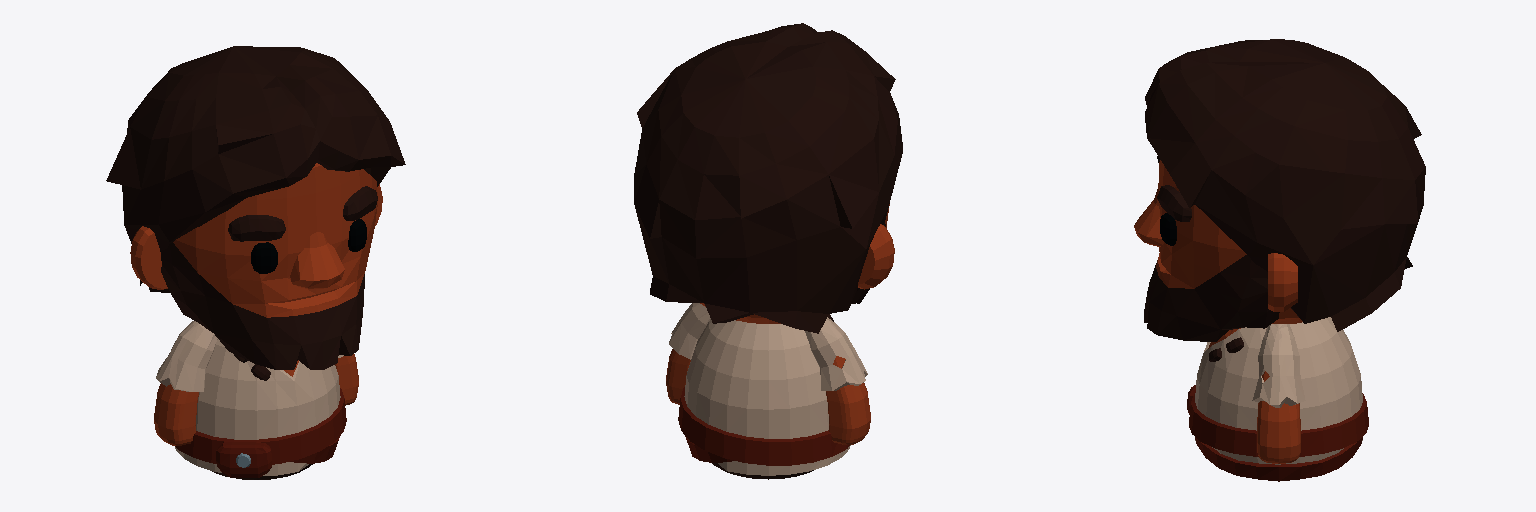
The model's file is character_villager_male1.obj.
3 views of the same model, side by side, from view 1: azimuth 30°, elevation 25°; view 2: azimuth 150°, elevation 25°; view 3: azimuth 270°, elevation 25° (orthographic).
Parts seen in each view (by area): view 1: character_villager_male1_head_Cube.824, character_villager_male1_body_Cube.825, character_villager_male1_armRight_Cube.826, character_villager_male1_armLeft_Cube.828; view 2: character_villager_male1_head_Cube.824, character_villager_male1_body_Cube.825, character_villager_male1_armRight_Cube.826, character_villager_male1_armLeft_Cube.828; view 3: character_villager_male1_head_Cube.824, character_villager_male1_body_Cube.825, character_villager_male1_armLeft_Cube.828.
Part boxes in pixels (bbox=[...]): character_villager_male1_head_Cube.824: bbox=[106, 46, 405, 369]; character_villager_male1_body_Cube.825: bbox=[175, 339, 346, 479]; character_villager_male1_armRight_Cube.826: bbox=[154, 321, 217, 445]; character_villager_male1_armLeft_Cube.828: bbox=[335, 354, 358, 405]; character_villager_male1_head_Cube.824: bbox=[634, 23, 902, 333]; character_villager_male1_body_Cube.825: bbox=[678, 314, 850, 479]; character_villager_male1_armRight_Cube.826: bbox=[805, 317, 870, 444]; character_villager_male1_armLeft_Cube.828: bbox=[666, 303, 710, 404]; character_villager_male1_head_Cube.824: bbox=[1134, 39, 1425, 341]; character_villager_male1_body_Cube.825: bbox=[1187, 317, 1368, 481]; character_villager_male1_armLeft_Cube.828: bbox=[1252, 324, 1305, 463].
Size of the model in its own units: 1.18 by 1.81 by 1.2.